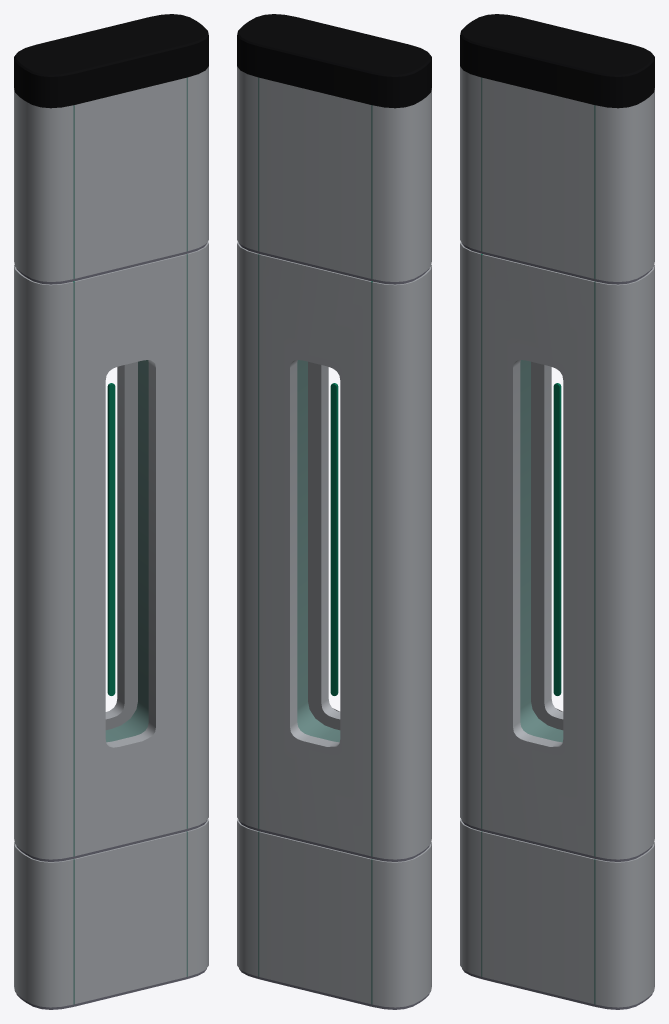
File: W_O_Streetstand_001_L0.fbx
The picture shows the model from 3 angles, left to right: view 1: azimuth 30°, elevation 25°; view 2: azimuth 150°, elevation 25°; view 3: azimuth 330°, elevation 25°; orthographic projection.
Visible parts, largest first — view 1: W_O_Streetstand_001_L0; view 2: W_O_Streetstand_001_L0; view 3: W_O_Streetstand_001_L0.
Boxes of the visible parts, box(x1,y1,x2,y2) form: W_O_Streetstand_001_L0: box(14, 14, 208, 1009); W_O_Streetstand_001_L0: box(237, 14, 431, 1009); W_O_Streetstand_001_L0: box(460, 14, 654, 1009).
Bounding box in the file's own units: 1.2 × 6 × 0.4505.
